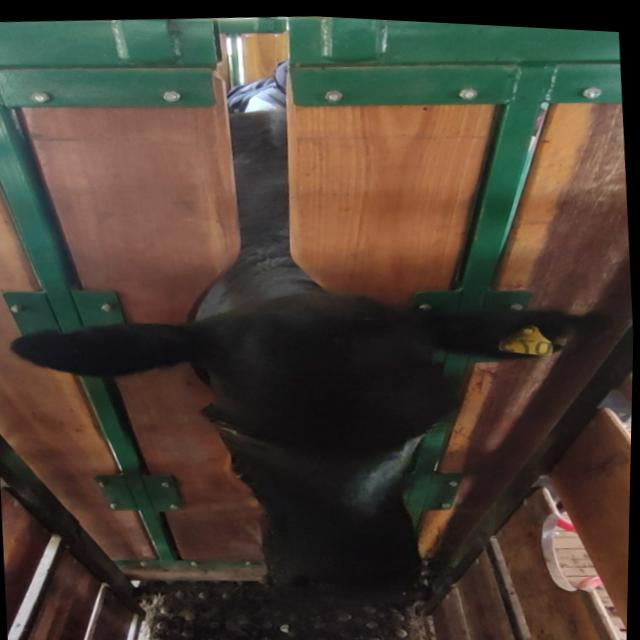cowFace: (201, 281, 480, 613)
